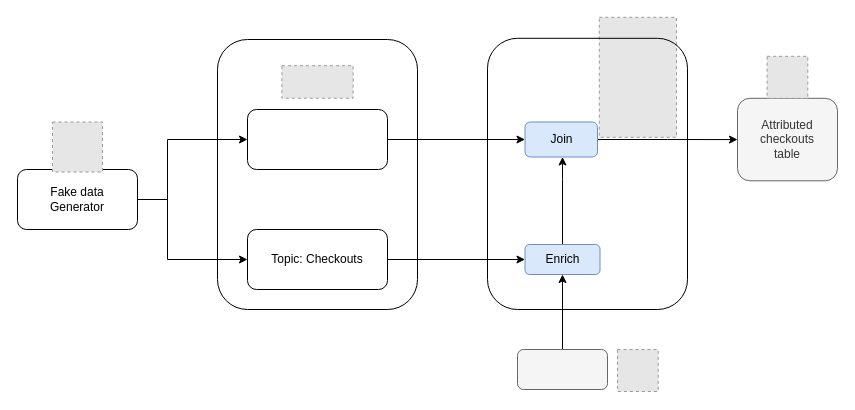
Image size: 855x410. Some labels were removed from this diagram. Grey dashed boxes stand in for pictures. The centre of each missing label's shape, as x and y in pixels:
"Topic: Clicks" belongs at point 317,139.
"User table" belongs at point 562,369.
